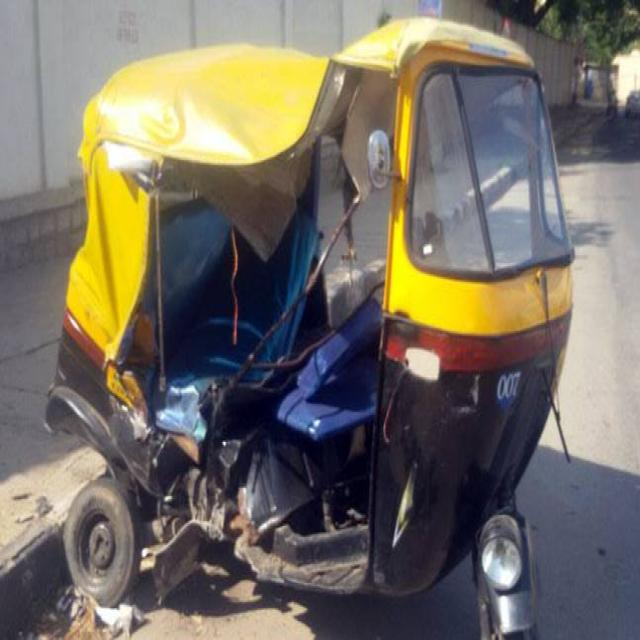accident: (46, 18, 572, 638)
